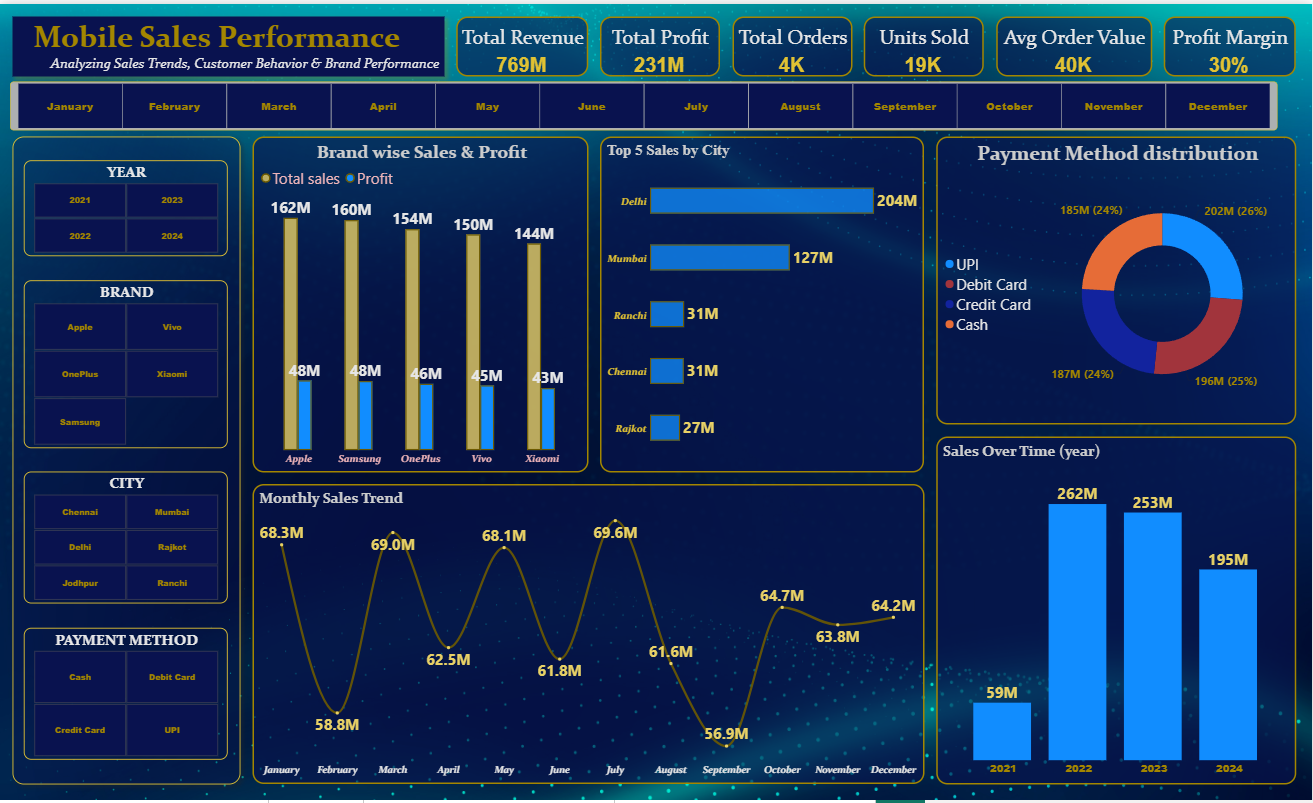

The dashboard page shown, as its layout file describes it:
{"tool":"powerbi","page":{"name":"MOBILE SALES ANALYSIS DASHBOARD","canvas":[3500,2500],"ordinal":0},"visuals":[{"type":"textbox","box":[32,352,608,1728],"z":0},{"type":"slicer","title":"BRAND","fields":{"Values":["Mobile_sales_data dasboard.Brand"]},"box":[64,736,544,448],"z":1000},{"type":"slicer","title":"YEAR","fields":{"Values":["Mobile_sales_data dashboard.DATE.Variation.Date Hierarchy.Year"]},"box":[64,416,544,256],"z":2000},{"type":"slicer","fields":{"Values":["Mobile_sales_data dasboard.DATE.Variation.Date Hierarchy.Month"]},"box":[26.7,206.7,3380,130],"z":3000},{"type":"slicer","title":"PAYMENT METHOD","fields":{"Values":["Mobile_sales_data dasboard.Payment Method"]},"box":[64,1664,544,352],"z":4000},{"type":"textbox","box":[32,32,1152,160],"z":5000},{"type":"card","title":"Total Revenue","fields":{"Values":["Mobile_sales_data dashboard.Total sales"]},"box":[1216,32,352,160],"z":6000},{"type":"card","title":"Total Profit","fields":{"Values":["Mobile_sales_data dashboard.Profit"]},"box":[1600,32,320,160],"z":7000},{"type":"card","title":"Total Orders ","fields":{"Values":["Mobile_sales_data dashboard.Transaction"]},"box":[1952,32,320,160],"z":8000},{"type":"card","title":"Units Sold","fields":{"Values":["Mobile_sales_data dashboard.TotalQuantity"]},"box":[2304,32,320,160],"z":9000},{"type":"card","title":"Profit Margin","fields":{"Values":["Mobile_sales_data dashboard.Profit Margin %"]},"box":[3104,32,352,160],"z":10000},{"type":"card","title":"Avg Order Value","fields":{"Values":["Mobile_sales_data dashboard.Average"]},"box":[2656,32,416,160],"z":11000},{"type":"columnChart","title":"Sales Over Time (year)","fields":{"Category":["Mobile_sales_data dashboard.DATE.Variation.Date Hierarchy.Year"],"Y":["Mobile_sales_data dashboard.Total sales"]},"box":[2496,1152,960,928],"z":12000},{"type":"lineClusteredColumnComboChart","title":"Brand wise Sales & Profit","fields":{"Category":["Mobile_sales_data dashboard.Brand"],"Y":["Mobile_sales_data dashboard.Total sales","Mobile_sales_data dashboard.Profit"]},"box":[672,352,896,896],"z":13000},{"type":"barChart","title":"Top 5 Sales by City","fields":{"Category":["Mobile_sales_data dasboard.City"],"Y":["Mobile_sales_data dashboard.Total sales"]},"box":[1600,352,864,896],"z":14000},{"type":"lineChart","title":"Monthly Sales Trend","fields":{"Category":["Mobile_sales_data dashboard.DATE.Variation.Date Hierarchy.Month"],"Y":["Mobile_sales_data dashboard.Total sales"]},"box":[672,1280,1792,800],"z":15000},{"type":"donutChart","title":"Payment Method distribution","fields":{"Category":["Mobile_sales_data dashboard.Payment Method"],"Y":["Mobile_sales_data dashboard.Total sales"]},"box":[2496,352,960,768],"z":16000},{"type":"slicer","title":"CITY","fields":{"Values":["Mobile_sales_data dashboard.City"]},"box":[64,1248,544,352],"z":17000}]}

Visuals, with their boxes on the page's 3500x2500 design canvas (x1, y1, x2, y2). These are canvas units, not pixel positions in the 1313x803 screenshot, which may show the page scaled, cropped or inside an application window:
textbox: {"left": 32, "top": 352, "right": 640, "bottom": 2080}
"BRAND" slicer: {"left": 64, "top": 736, "right": 608, "bottom": 1184}
"YEAR" slicer: {"left": 64, "top": 416, "right": 608, "bottom": 672}
slicer - Mobile_sales_data dasboard.DATE.Variation.Date Hierarchy.Month: {"left": 27, "top": 207, "right": 3407, "bottom": 337}
"PAYMENT METHOD" slicer: {"left": 64, "top": 1664, "right": 608, "bottom": 2016}
textbox: {"left": 32, "top": 32, "right": 1184, "bottom": 192}
"Total Revenue" card: {"left": 1216, "top": 32, "right": 1568, "bottom": 192}
"Total Profit" card: {"left": 1600, "top": 32, "right": 1920, "bottom": 192}
"Total Orders " card: {"left": 1952, "top": 32, "right": 2272, "bottom": 192}
"Units Sold" card: {"left": 2304, "top": 32, "right": 2624, "bottom": 192}
"Profit Margin" card: {"left": 3104, "top": 32, "right": 3456, "bottom": 192}
"Avg Order Value" card: {"left": 2656, "top": 32, "right": 3072, "bottom": 192}
"Sales Over Time (year)" columnChart: {"left": 2496, "top": 1152, "right": 3456, "bottom": 2080}
"Brand wise Sales & Profit" lineClusteredColumnComboChart: {"left": 672, "top": 352, "right": 1568, "bottom": 1248}
"Top 5 Sales by City" barChart: {"left": 1600, "top": 352, "right": 2464, "bottom": 1248}
"Monthly Sales Trend" lineChart: {"left": 672, "top": 1280, "right": 2464, "bottom": 2080}
"Payment Method distribution" donutChart: {"left": 2496, "top": 352, "right": 3456, "bottom": 1120}
"CITY" slicer: {"left": 64, "top": 1248, "right": 608, "bottom": 1600}
